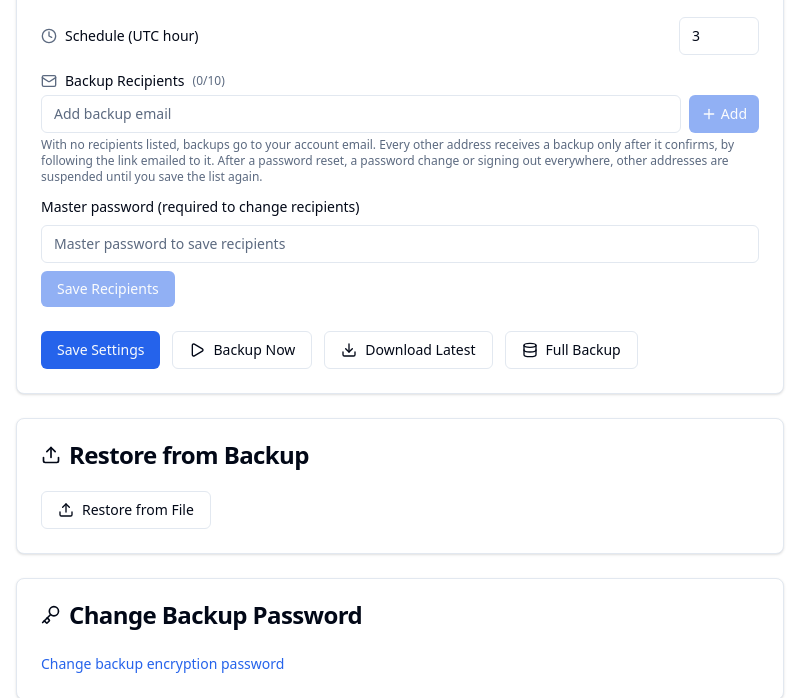
Test: the Full Backup button › never shows its panel beside the download prompt
(page scrolled)
Check: the button "Restore from File" is shown, box [41,491,211,529]
Click the button "Download Latest".
click(408, 350)  # box [324,331,493,369]
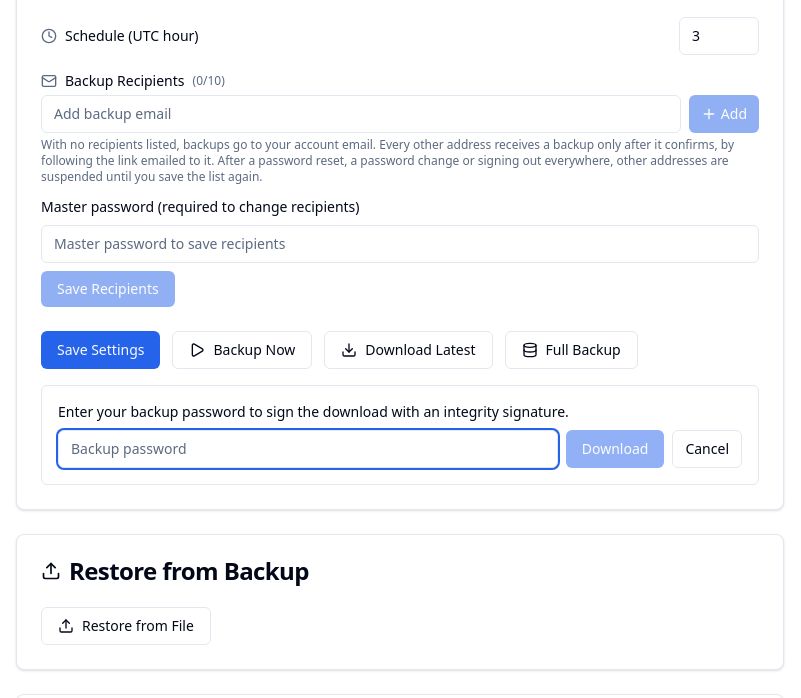
Check: the password field with placeholder "Backup password" is shown, box [58,430,558,468]
Click the button "Full Backup".
click(571, 350)  # box [504,331,638,369]
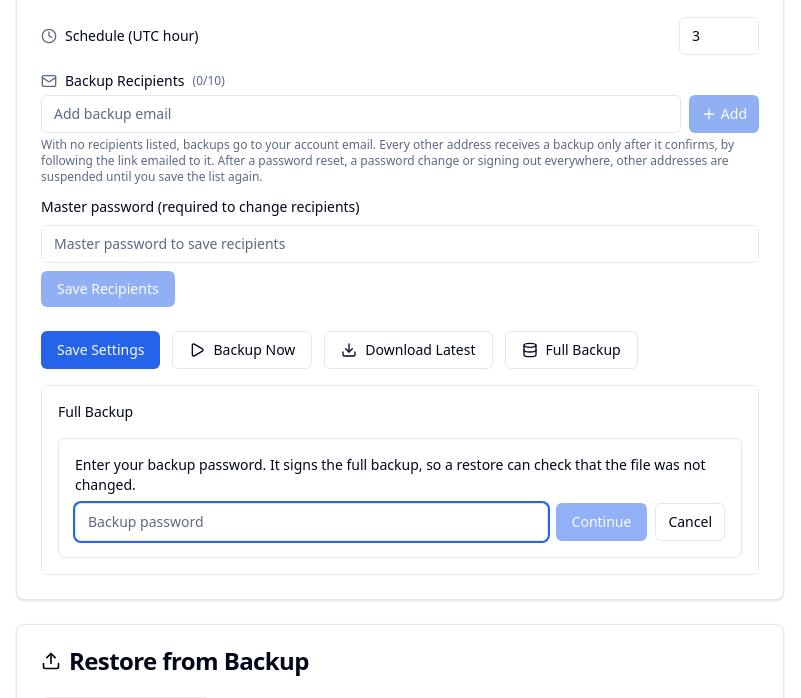
Check: the number of password fields with placeholder "Backup password" is 1, box [75,503,548,541]
Check: the element with test id "full-backup-panel" is shown, box [41,385,759,575]
Click the button "Download Latest".
click(408, 350)  # box [324,331,493,369]
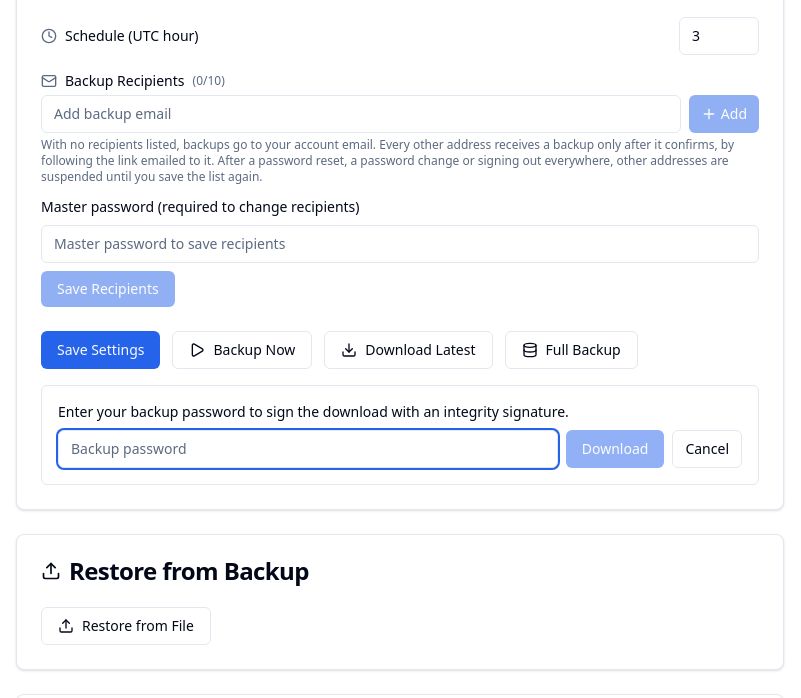
Check: the element with test id "full-backup-panel" is gone
